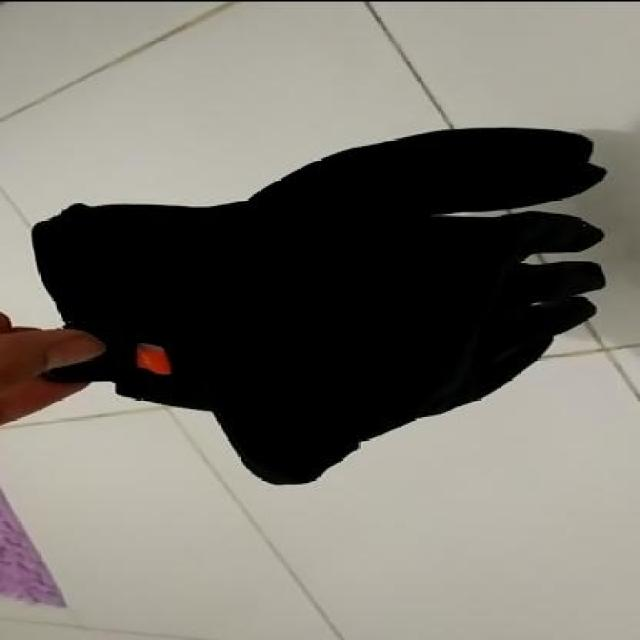gloves: (22, 123, 640, 491)
